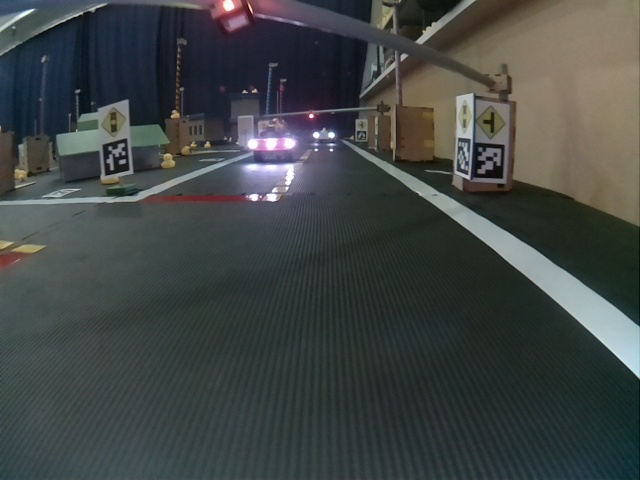Duckie: (162, 154, 175, 168)
Duckiebot: (249, 131, 295, 160), (313, 131, 336, 142)
Intersection sign: (477, 105, 507, 138)
QR code: (473, 142, 506, 181), (102, 138, 129, 175), (456, 139, 471, 177), (43, 188, 78, 197)
Signal sign: (101, 106, 128, 137), (459, 101, 472, 136)
Traffic light: (212, 1, 253, 33)
